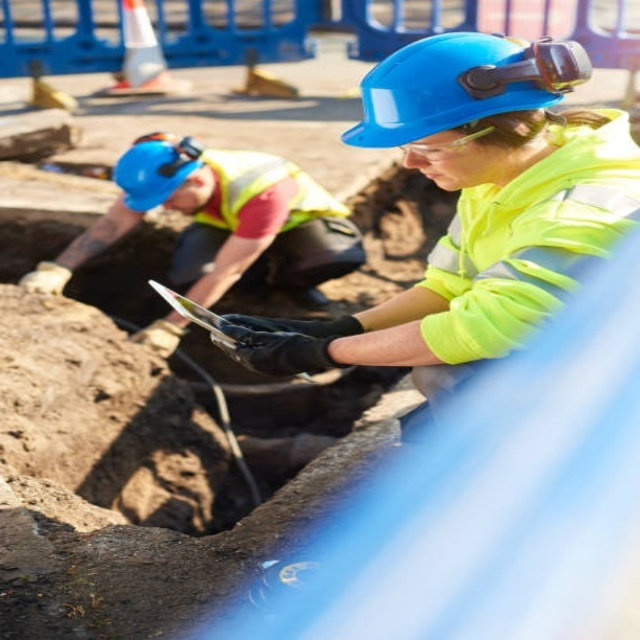Gafas: (391, 121, 500, 162)
Guantes: (201, 302, 358, 381), (121, 317, 182, 361), (14, 258, 80, 296)
Sin_mascara: (417, 164, 471, 192)
